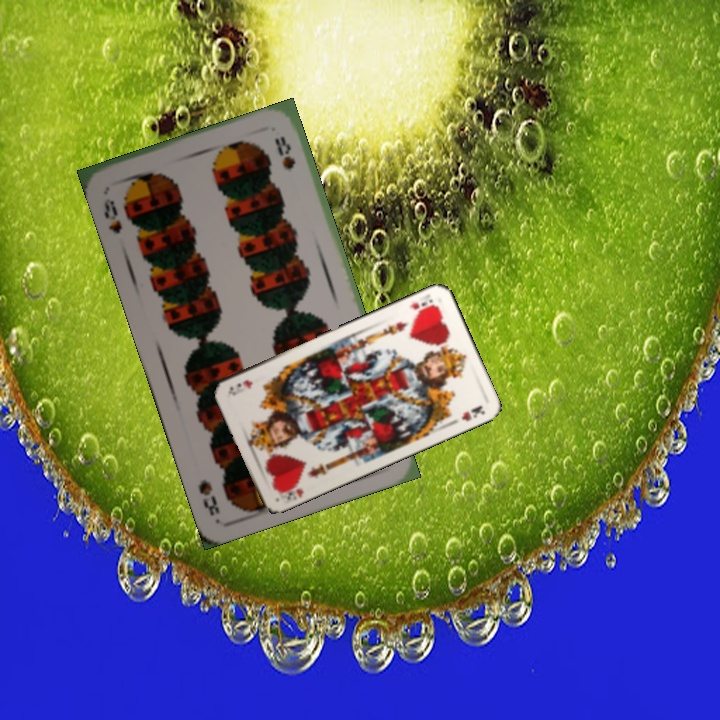HK: (405, 295, 440, 317), (274, 478, 306, 502)
S8: (100, 194, 125, 237)
